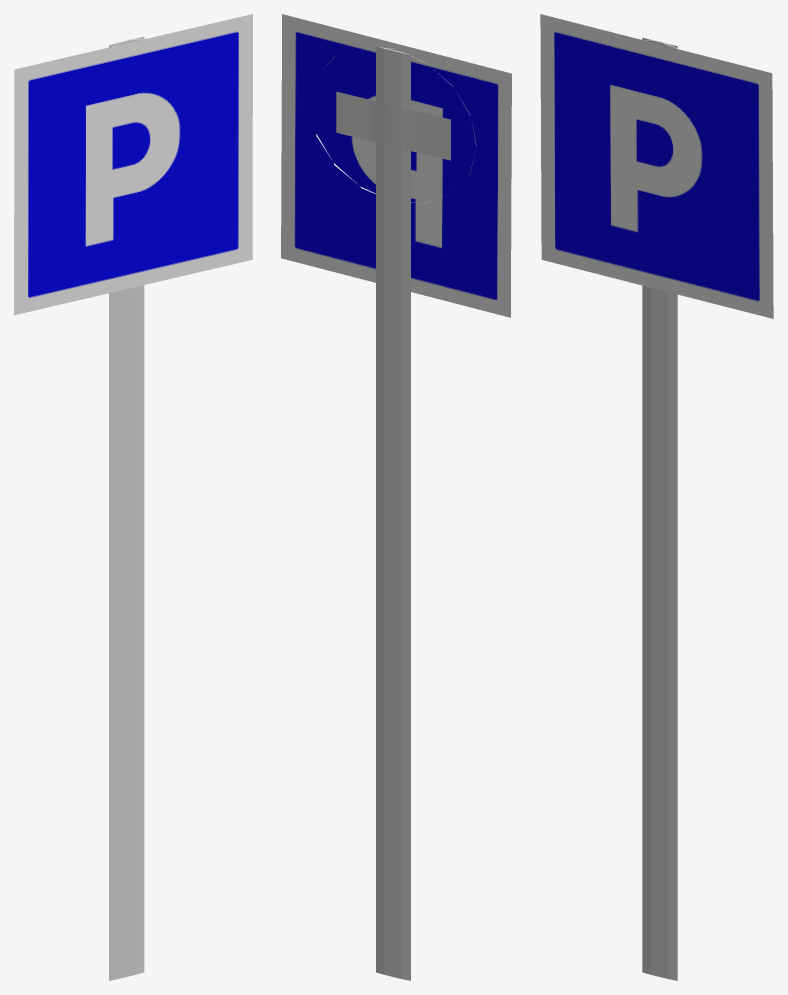
File: park.dae
3 renders of one model, left to right at view 1: azimuth 30°, elevation 25°; view 2: azimuth 150°, elevation 25°; view 3: azimuth 330°, elevation 25°, orthographic.
Parts seen in each view (by area): view 1: Plane, Sign_Circle.005; view 2: Plane, Sign_Circle.005; view 3: Plane, Sign_Circle.005.
Boxes of the visible parts, bbox=[...] form: Plane: bbox=[14, 14, 252, 315]; Sign_Circle.005: bbox=[109, 36, 145, 980]; Plane: bbox=[281, 14, 511, 317]; Sign_Circle.005: bbox=[316, 46, 476, 980]; Plane: bbox=[540, 14, 773, 318]; Sign_Circle.005: bbox=[642, 37, 678, 980].
Bounding box in the file's own units: 0.5948 × 0.032 × 2.26.
3 materials, 1 textured.
